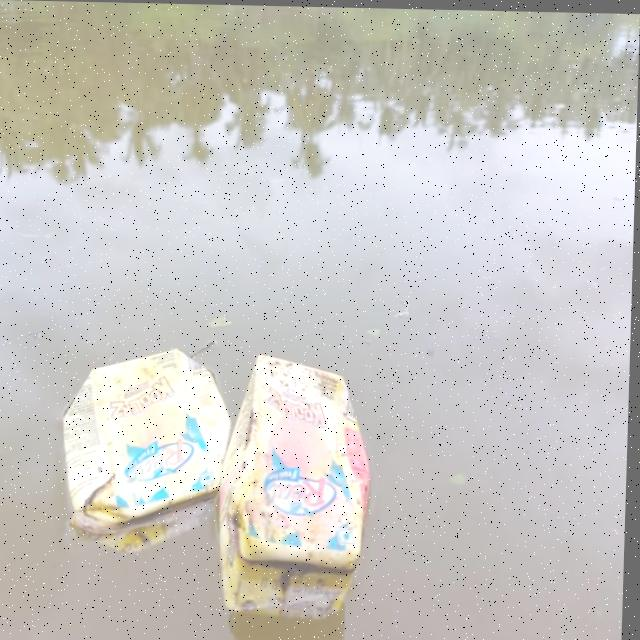paper: (231, 355, 375, 590), (58, 345, 231, 526)
